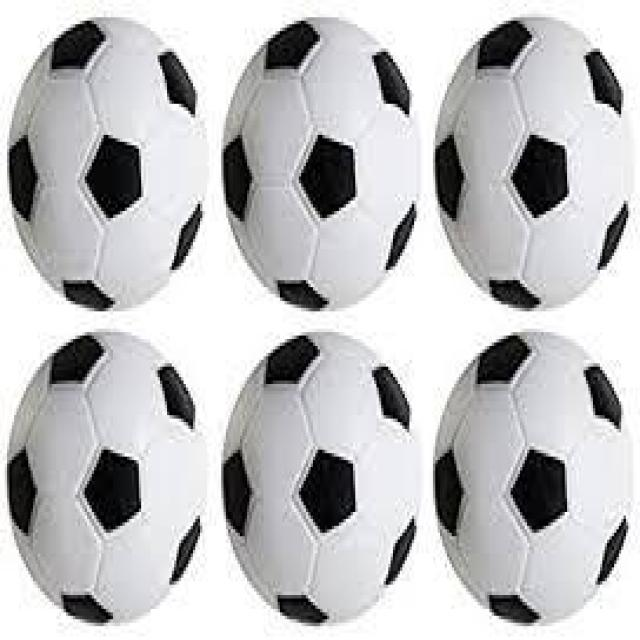Soccer Ball: (5, 25, 209, 312), (435, 18, 631, 312), (224, 336, 421, 626), (438, 336, 633, 622), (226, 31, 416, 308), (30, 381, 178, 574)
